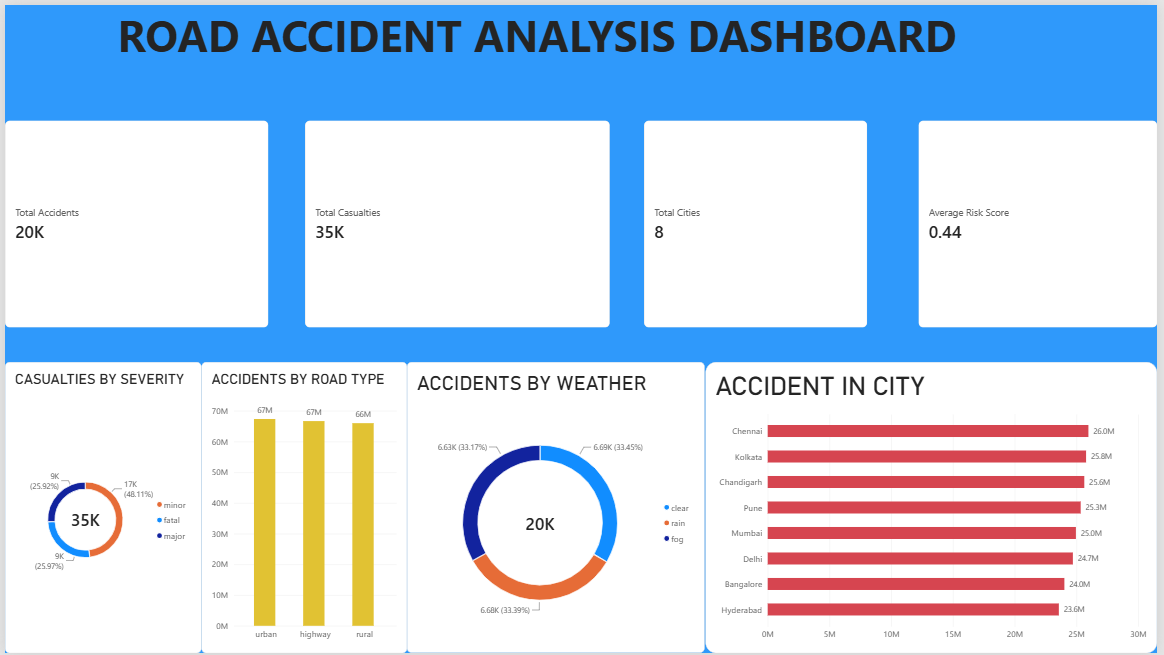

Layout of this report page (visuals, bound fields, positions):
{"tool":"powerbi","page":{"name":"Page 1","canvas":[1920,1080],"ordinal":0},"visuals":[{"type":"cardVisual","fields":{"Data":["accident.Total Cities"]},"box":[1064.1,193.3,372.2,346],"z":0},{"type":"cardVisual","fields":{"Data":["accident.Average Risk Score"]},"box":[1522.2,193.3,398.4,346],"z":1000},{"type":"cardVisual","fields":{"Data":["accident.Total Casualties"]},"box":[501,193.3,508.2,346],"z":2000},{"type":"cardVisual","fields":{"Data":["accident.Total Accidents"]},"box":[0,193.3,439,346],"z":3000},{"type":"clusteredBarChart","title":"ACCIDENT IN  CITY","fields":{"Category":["accident.city"],"Y":["Sum(accident.accident_id)"]},"box":[1167.5,595,752.5,485],"z":4000},{"type":"clusteredColumnChart","title":"ACCIDENTS BY ROAD TYPE","fields":{"Category":["accident.road_type"],"Y":["Sum(accident.accident_id)"]},"box":[327.5,595,342.5,485],"z":5000},{"type":"donutChart","title":"CASUALTIES BY SEVERITY","fields":{"Category":["accident.accident_severity"],"Y":["Sum(accident.casualties)"]},"box":[0,595,327.5,485],"z":6000},{"type":"donutChart","title":"ACCIDENTS BY WEATHER","fields":{"Category":["accident.weather"],"Y":["CountNonNull(accident.accident_severity)"]},"box":[670,595,496.3,484.3],"z":7000},{"type":"textbox","box":[188.5,0,1579.5,193.3],"z":8000}]}

Visuals, with their boxes in screenshot pixels (x1, y1, x2, y2), scaled from the page's 1920x1080 canvas onto the 1164x655 screenshot:
cardVisual - accident.Total Cities: [x1=645, y1=117, x2=871, y2=327]
cardVisual - accident.Average Risk Score: [x1=923, y1=117, x2=1163, y2=327]
cardVisual - accident.Total Casualties: [x1=304, y1=117, x2=612, y2=327]
cardVisual - accident.Total Accidents: [x1=0, y1=117, x2=266, y2=327]
"ACCIDENT IN  CITY" clusteredBarChart: [x1=708, y1=361, x2=1163, y2=654]
"ACCIDENTS BY ROAD TYPE" clusteredColumnChart: [x1=199, y1=361, x2=406, y2=654]
"CASUALTIES BY SEVERITY" donutChart: [x1=0, y1=361, x2=199, y2=654]
"ACCIDENTS BY WEATHER" donutChart: [x1=406, y1=361, x2=707, y2=654]
textbox: [x1=114, y1=0, x2=1072, y2=117]
